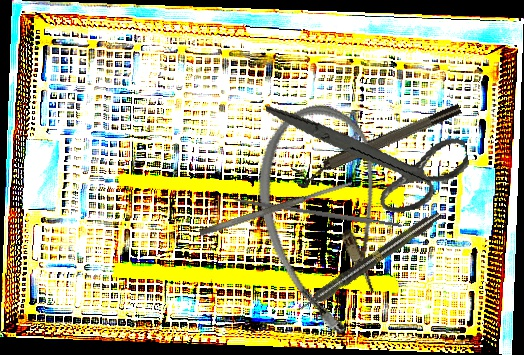Cannula: (234, 92, 423, 346)
Fixation Ring: (290, 100, 467, 191)
Handpiece: (293, 208, 444, 317)
Iris Scissors: (265, 69, 476, 234)
Scalpel Handle: (233, 196, 405, 231)
Spatula Surgical: (198, 179, 354, 238)
